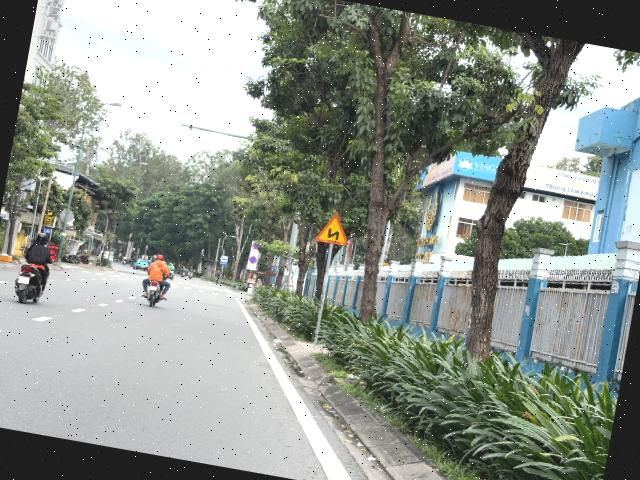nhieu-cho-ngoat-nguy-hiem-lien-tiep: (314, 209, 354, 246)
